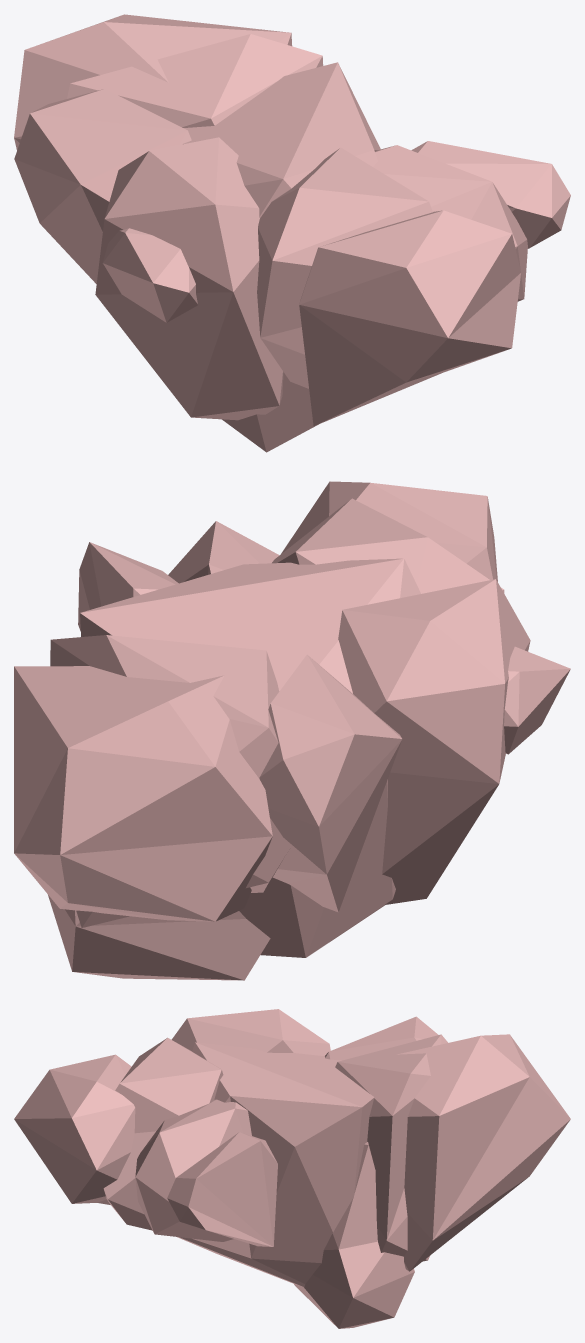
The model's file is SpiritCloud01.fbx.
3 renders of one model, top to bottom at view 1: azimuth 30°, elevation 25°; view 2: azimuth 150°, elevation 25°; view 3: azimuth 270°, elevation 25°, orthographic. The views are drawn at different scales.
Parts seen in each view (by area): view 1: SpiritCloud1; view 2: SpiritCloud1; view 3: SpiritCloud1.
Part boxes in pixels (<box>): SpiritCloud1: <box>14,14,570,452</box>; SpiritCloud1: <box>14,481,570,980</box>; SpiritCloud1: <box>14,1009,570,1328</box>.
Size of the model in its own units: 4.71 by 3.52 by 7.19.
